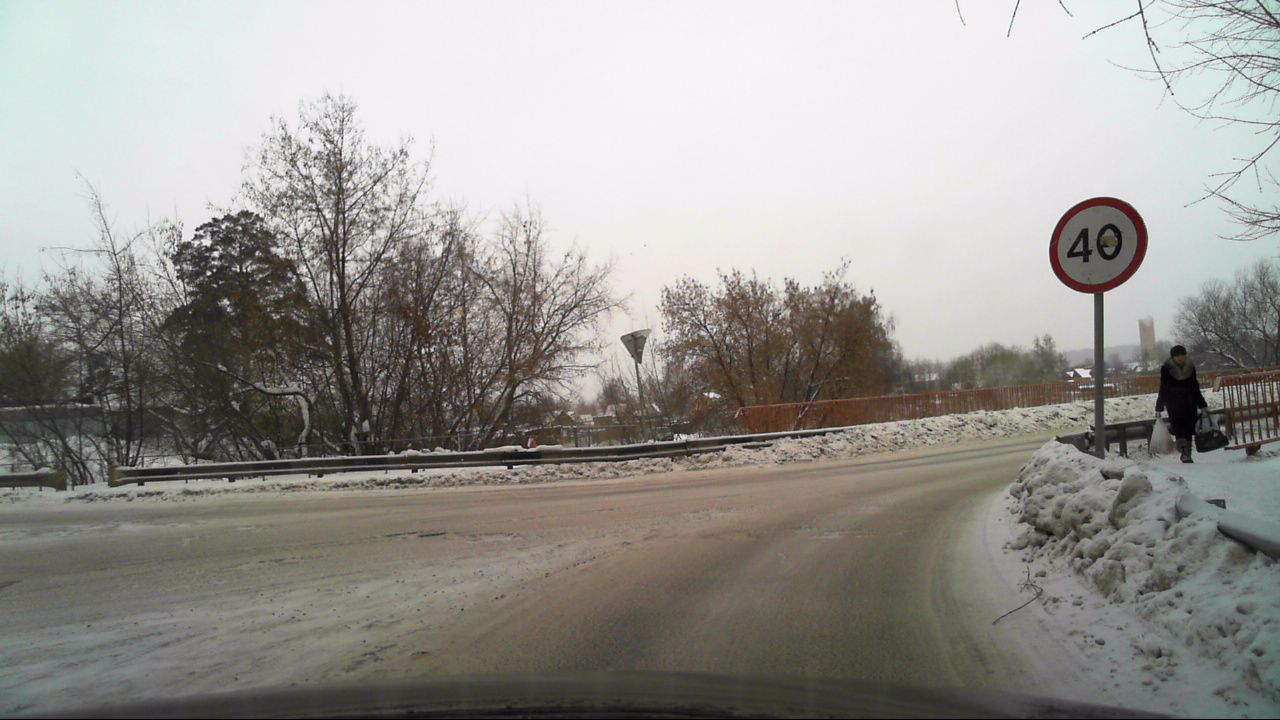speed_warning_40: (1048, 194, 1150, 294)
